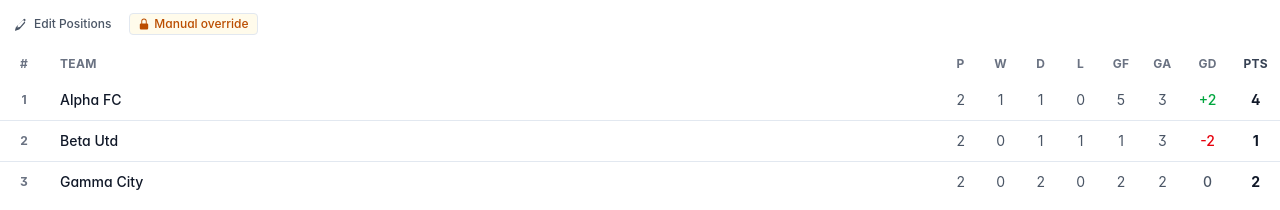
Scenario: StandingsTable › move up is disabled for first position and move down for last
Click the button with test id "toggle-edit-mode". click: (63, 24)
box: 4,12 -> 121,36
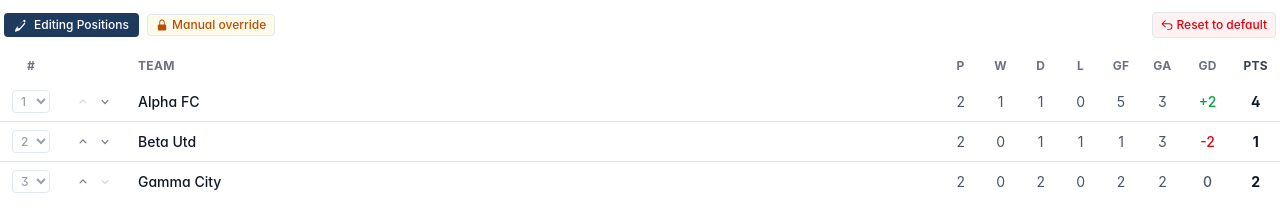
Expected: the button with test id "move-up-1" is disabled, 73,92 -> 93,112
Expected: the button with test id "move-down-3" is disabled, 95,172 -> 115,192
Expected: the button with test id "move-down-2" is enabled, 95,132 -> 115,152
